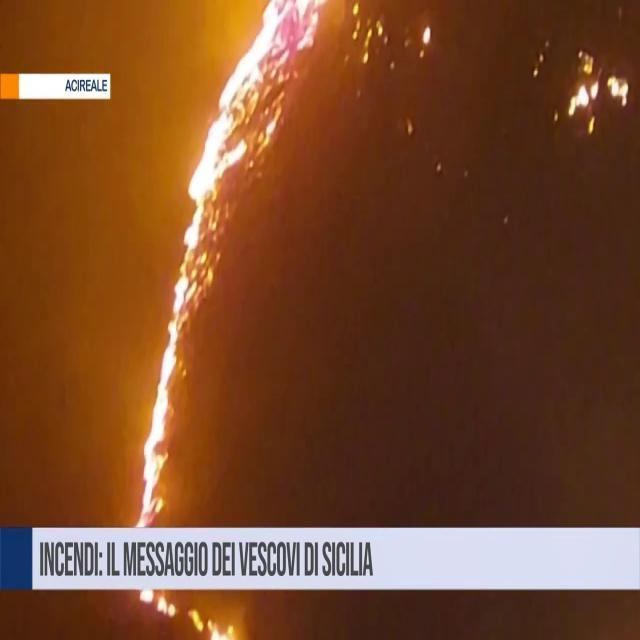Fire: (129, 1, 325, 517)
